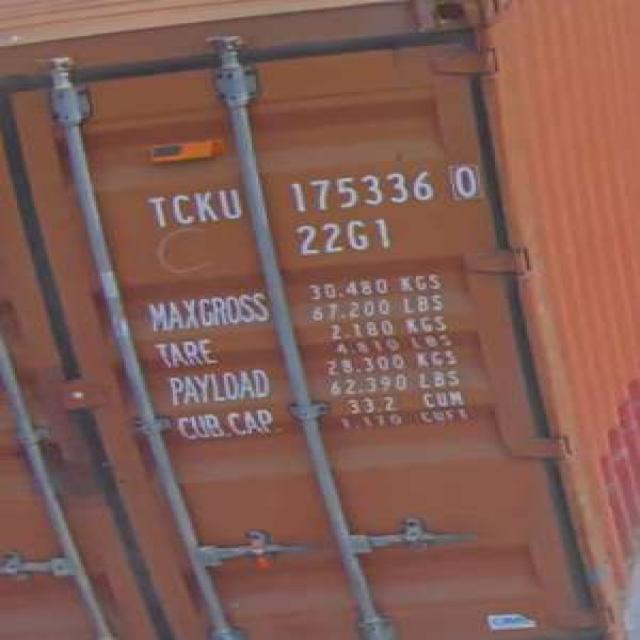dv: (445, 156, 483, 205)
owner: (136, 176, 249, 234)
serial: (279, 163, 437, 214)
size: (287, 217, 403, 261)
